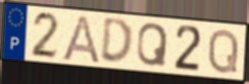2: (30, 11, 62, 61), (172, 24, 203, 74)
A: (59, 13, 102, 65)
D: (98, 17, 135, 67)
Q: (206, 27, 241, 76), (135, 21, 170, 69)
